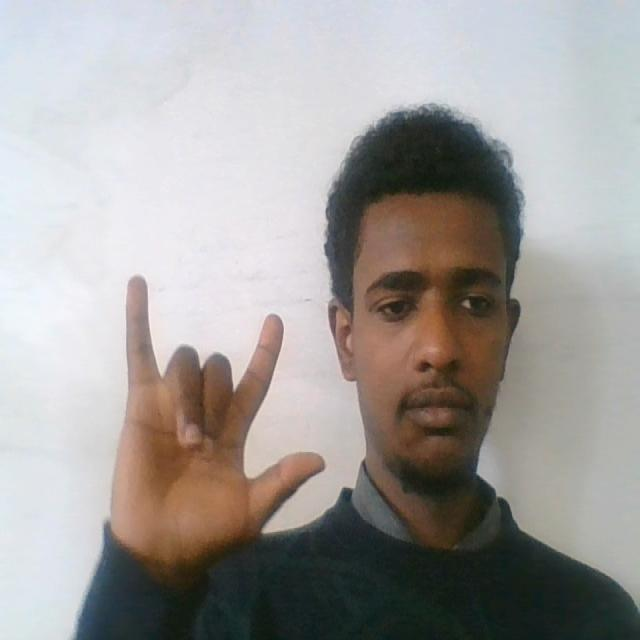iloveyou: (111, 260, 331, 595)
